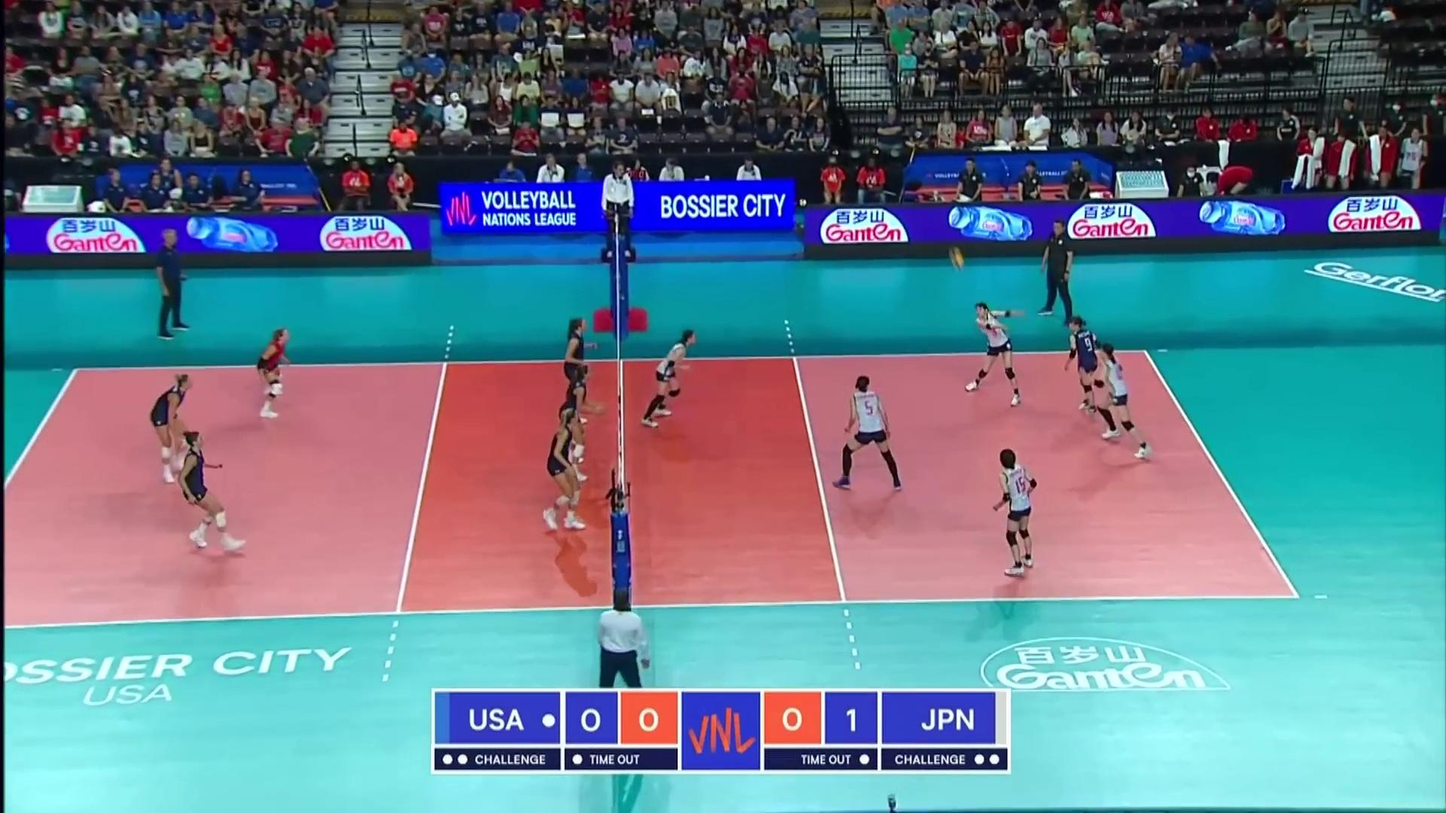player: (834, 376, 902, 492), (180, 432, 245, 553), (1093, 343, 1151, 459), (146, 375, 205, 486), (965, 303, 1026, 409), (636, 329, 696, 428), (541, 405, 585, 534), (997, 450, 1036, 578), (1064, 315, 1109, 414), (560, 363, 597, 479), (253, 329, 293, 419), (563, 318, 591, 423)
refree: (594, 597, 653, 693), (602, 162, 636, 254)
